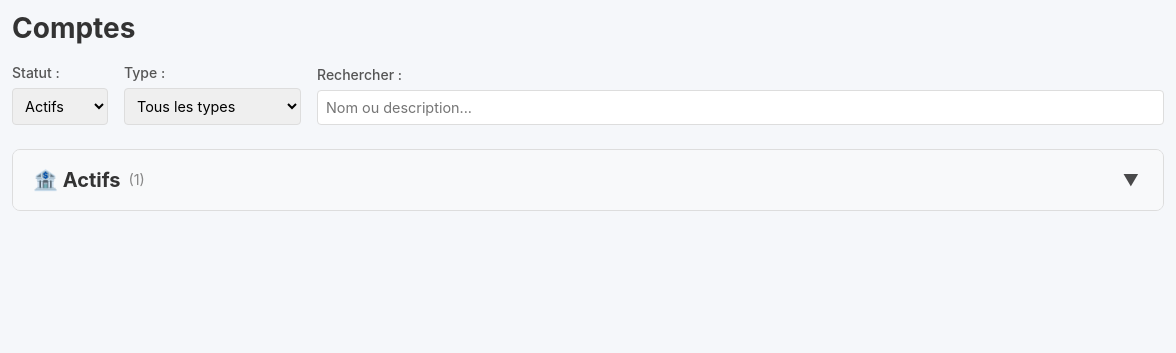
Scenario: AccountList - Interactions › devrait permettre d'expandre et de collapser un type de compte
Click the element with class "type-header". click: (588,180)
box: [13,150,1163,210]
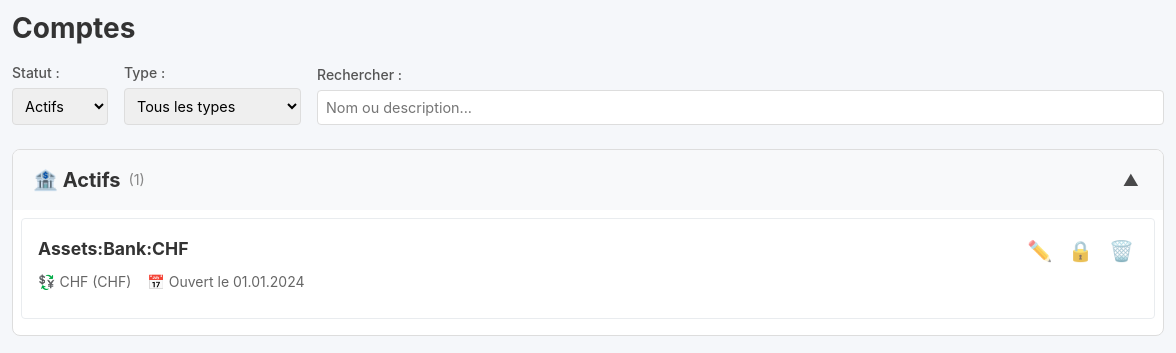
Result: the text "Assets:Bank:CHF" is shown at [38,235,188,263]
